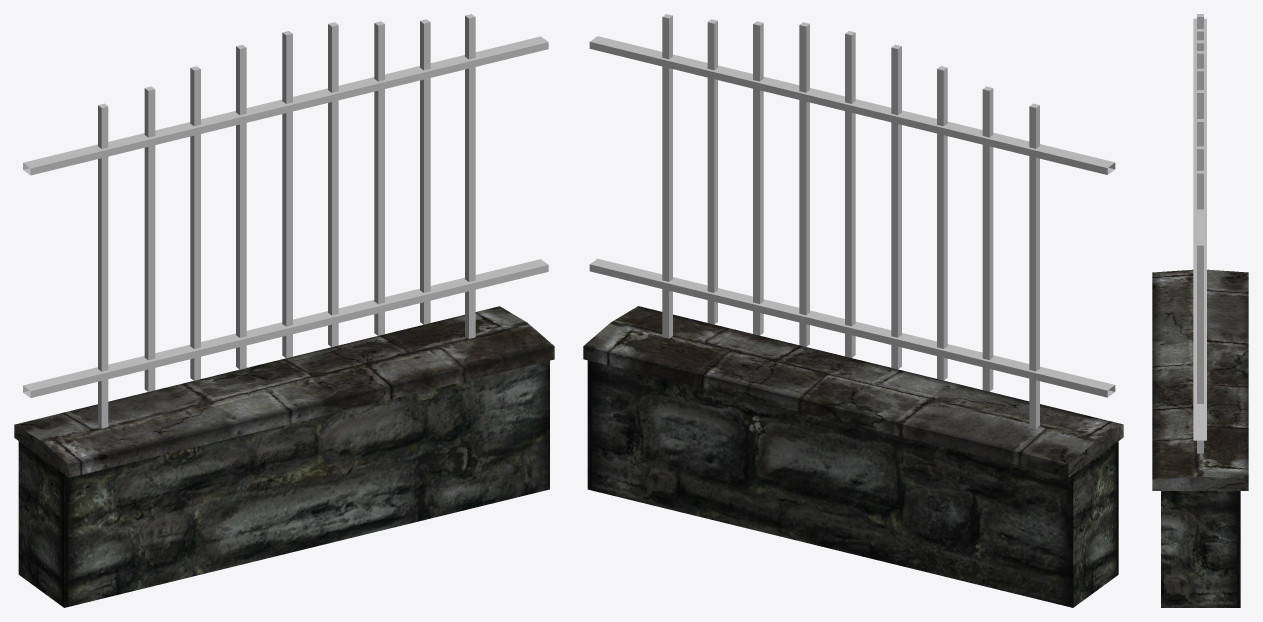
File: fencewall02.DAE
3 views of the same model, side by side, from view 1: azimuth 30°, elevation 25°; view 2: azimuth 150°, elevation 25°; view 3: azimuth 270°, elevation 25° (orthographic). The views are drawn at different scales.
Parts seen in each view (by area): view 1: Object073, Object063; view 2: Object073, Object063; view 3: Object073, Object063.
Part boxes in pixels (bbox=[...]): Object073: bbox=[14, 306, 554, 607]; Object063: bbox=[23, 14, 548, 428]; Object073: bbox=[583, 306, 1123, 607]; Object063: bbox=[589, 14, 1115, 428]; Object073: bbox=[1152, 269, 1248, 607]; Object063: bbox=[1193, 14, 1206, 453].
Bounding box in the file's own units: 4.27 × 3.93 × 0.7847.
